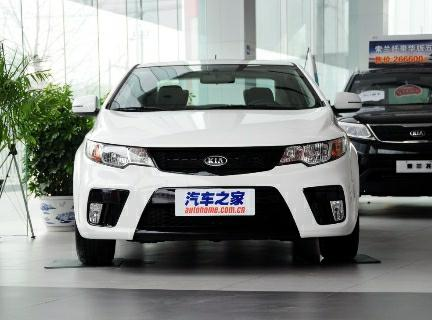car: (66, 54, 370, 268)
